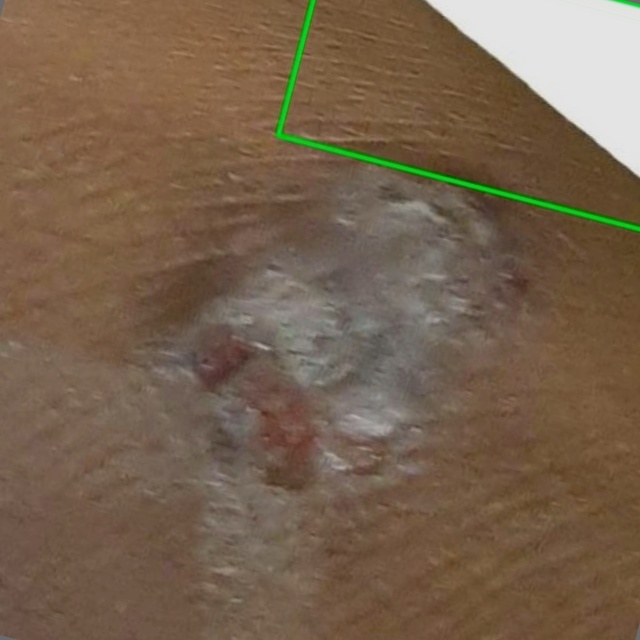Contact Dermatitis: (278, 0, 639, 228)
